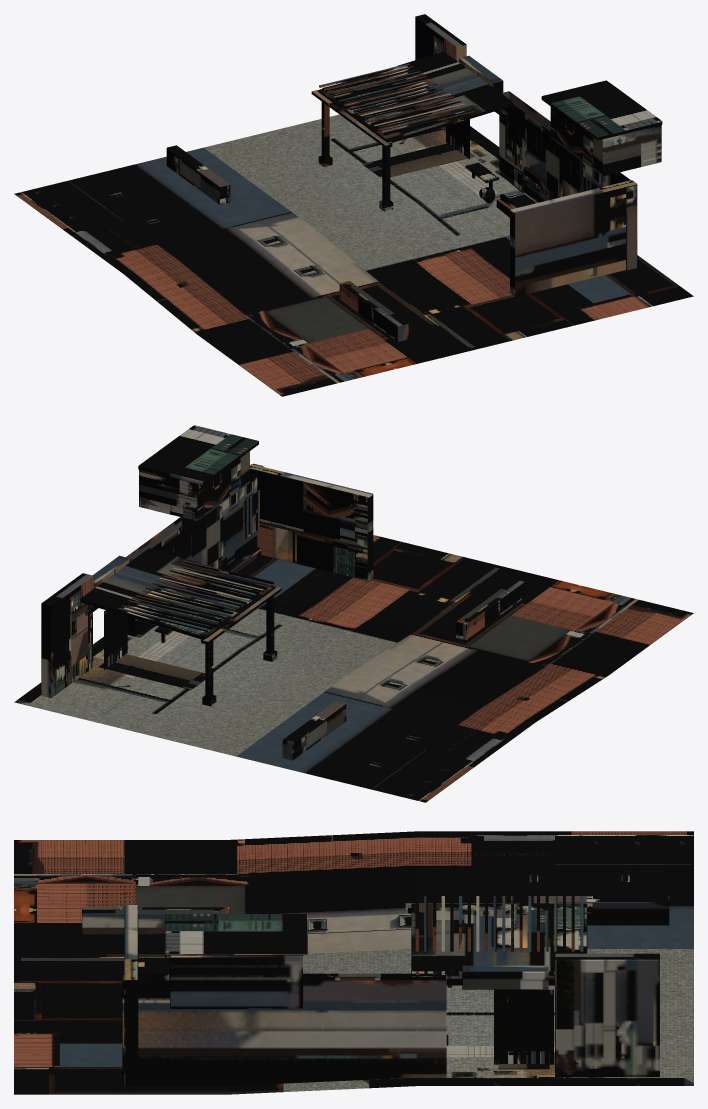
File: environment.obj
3 renders of one model, top to bottom at view 1: azimuth 30°, elevation 25°; view 2: azimuth 150°, elevation 25°; view 3: azimuth 270°, elevation 25°, orthographic. The views are drawn at different scales.
Parts seen in each view (by area): view 1: st_maria_praca_TH_RENDER_EnvironmentBakedAtlas; view 2: st_maria_praca_TH_RENDER_EnvironmentBakedAtlas; view 3: st_maria_praca_TH_RENDER_EnvironmentBakedAtlas.
Part boxes in pixels (x1,y1,x2,y2): st_maria_praca_TH_RENDER_EnvironmentBakedAtlas: [14, 14, 693, 396]; st_maria_praca_TH_RENDER_EnvironmentBakedAtlas: [14, 425, 693, 802]; st_maria_praca_TH_RENDER_EnvironmentBakedAtlas: [14, 831, 693, 1094].
Bounding box in the file's own units: 20.9 × 5.65 × 22.
